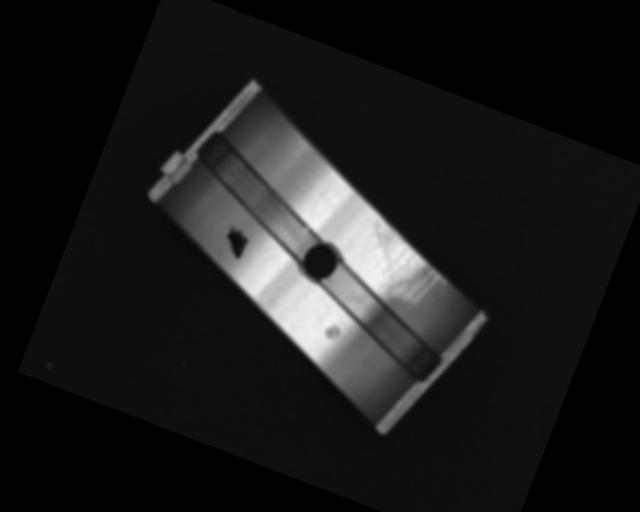blot: (219, 223, 254, 260)
bruise: (322, 320, 344, 342)
gap: (174, 130, 346, 266), (301, 258, 464, 386)
hole: (292, 232, 346, 290)
nick: (309, 171, 337, 212)
scratch: (350, 214, 463, 316)
